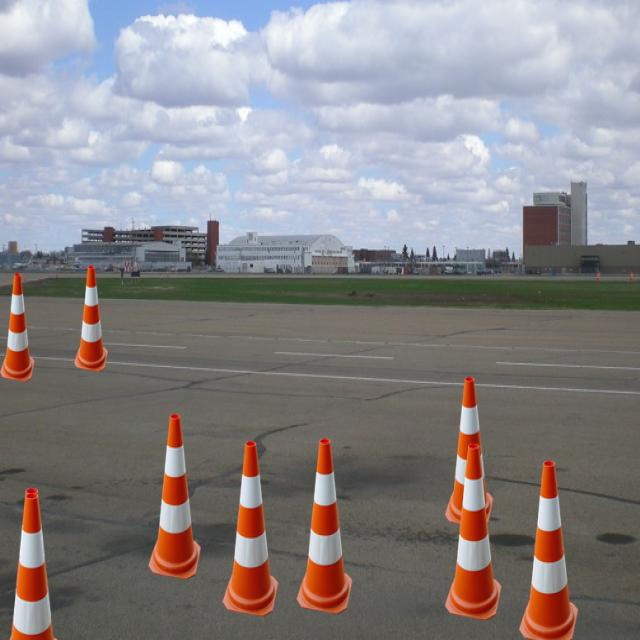large_orange_cone: (519, 461, 578, 640), (444, 444, 502, 620), (222, 441, 278, 617), (296, 439, 352, 614), (0, 488, 63, 640), (0, 493, 63, 640), (148, 414, 201, 579), (445, 377, 493, 527), (0, 273, 35, 382), (74, 266, 108, 372)
